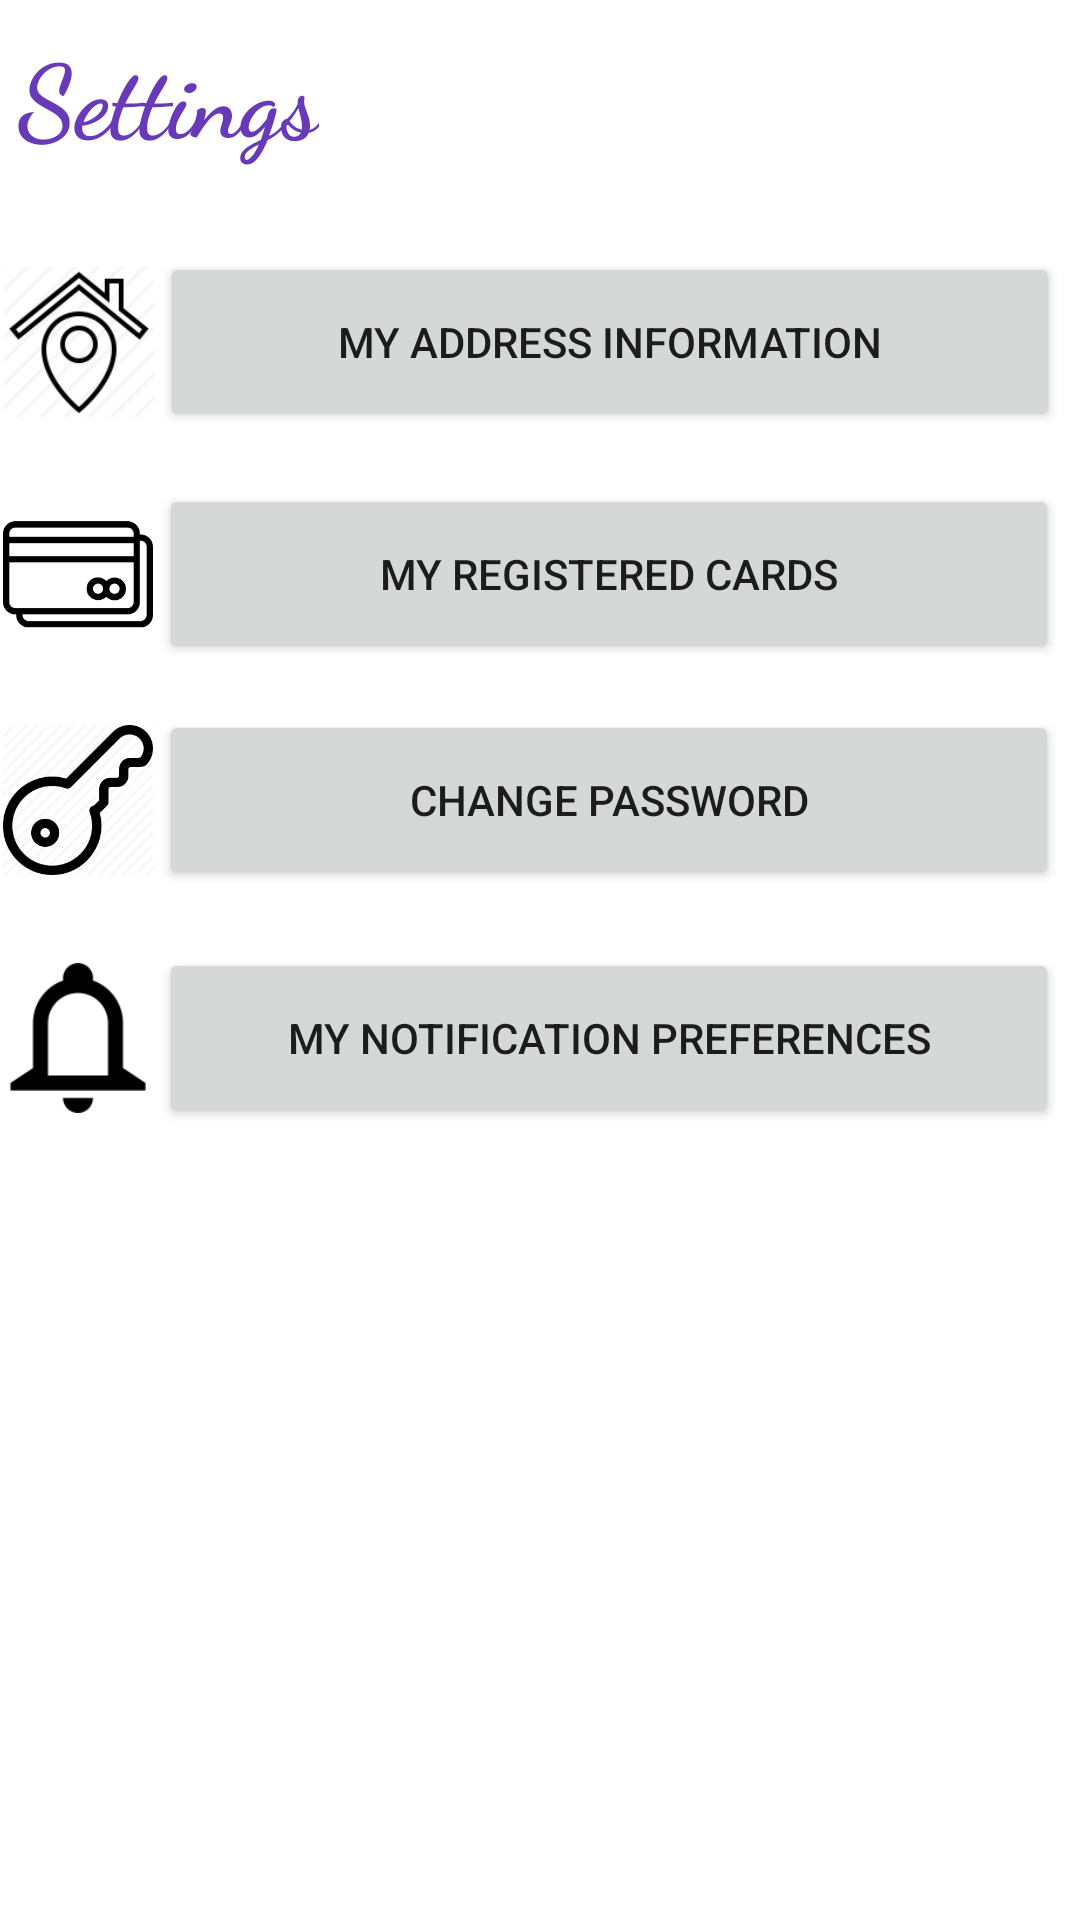

Icon click points for this 1080*1920 phone screenshot, format (x,y):
notification settingss: (78,1038)
